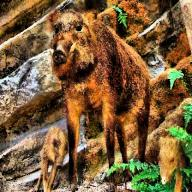boar: (20, 0, 192, 187)
